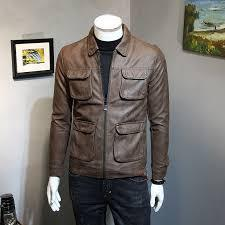jacket: (46, 25, 169, 181)
